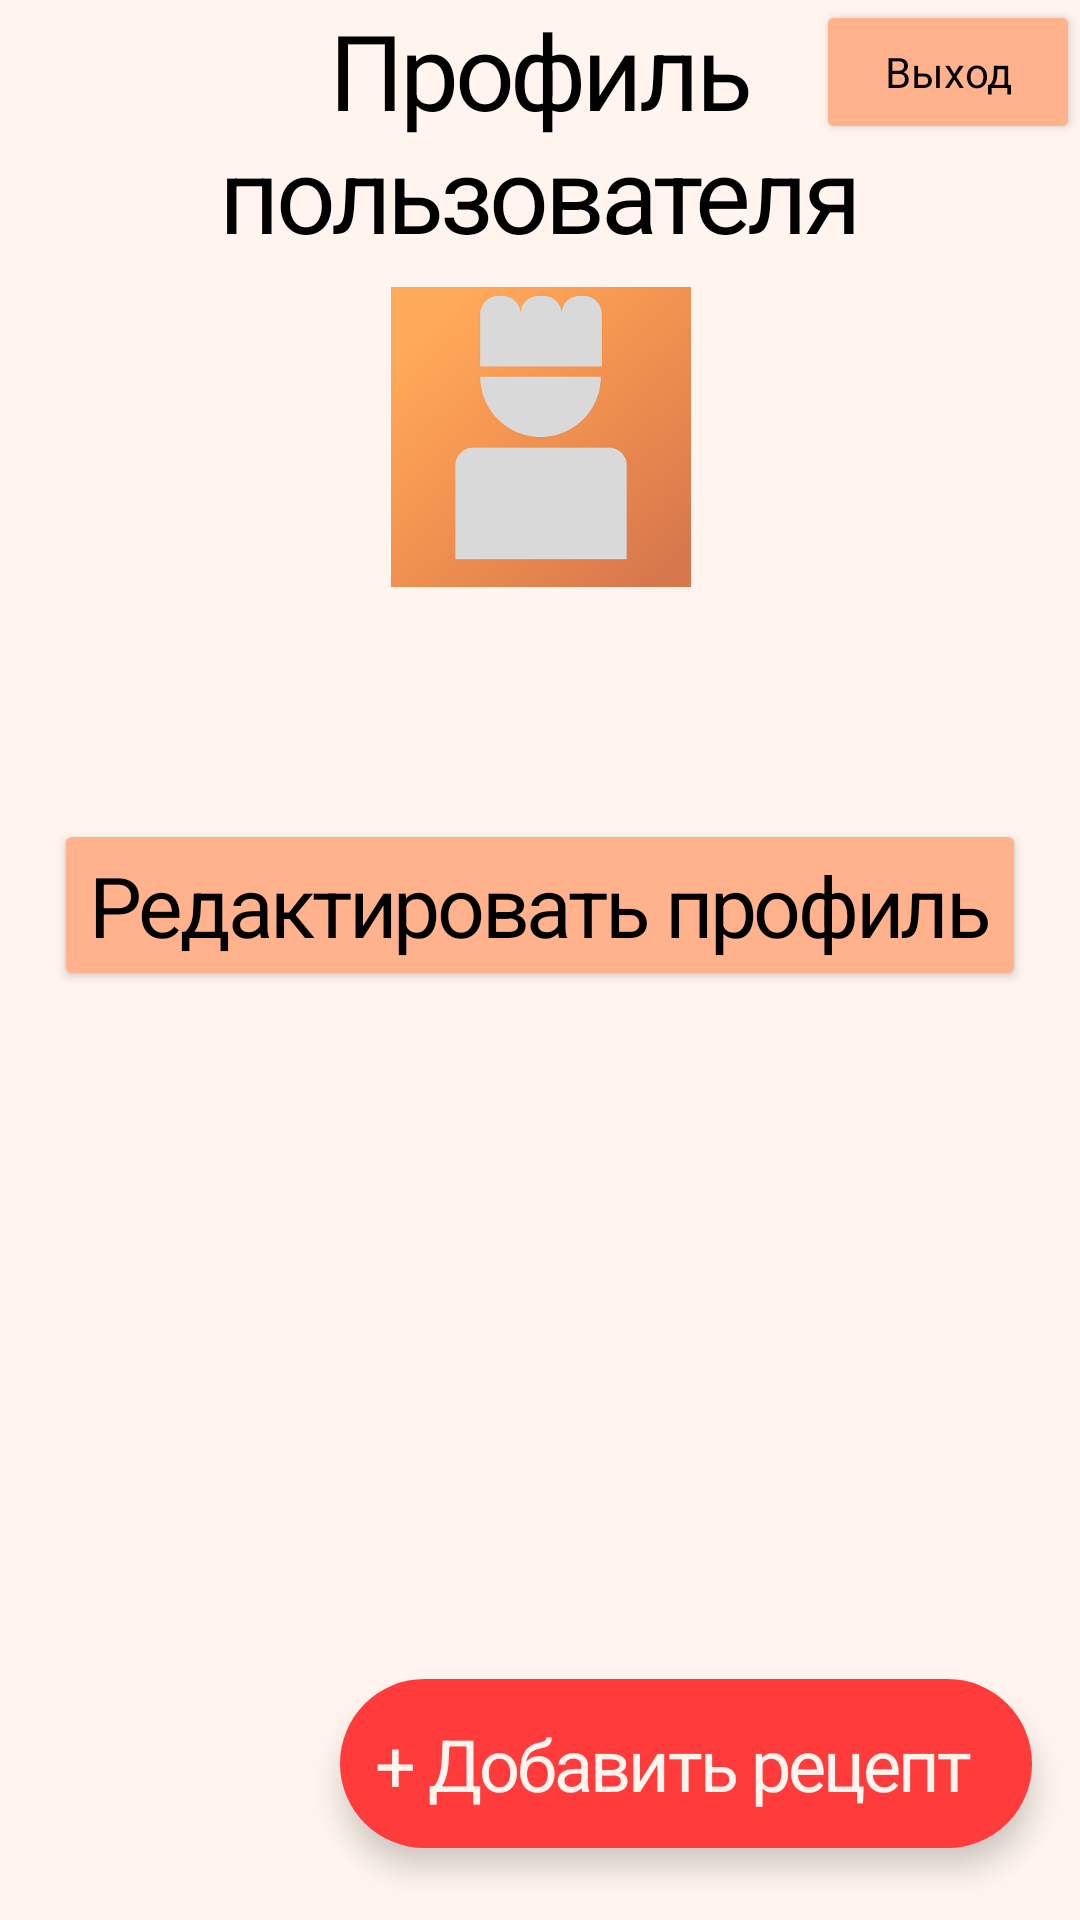

Icons on this 1080w x 1920h Android screen, each with its box as (x1, y1, x2, y2):
Изображение профиля: (391, 287, 691, 587)
